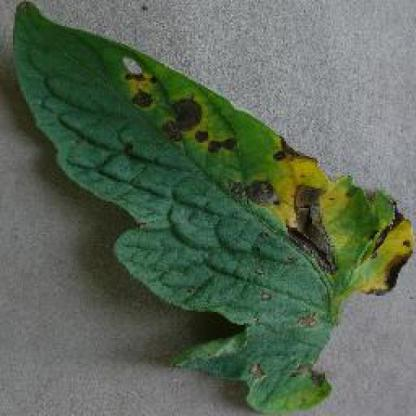Tomato_Blight: (11, 2, 412, 411)
